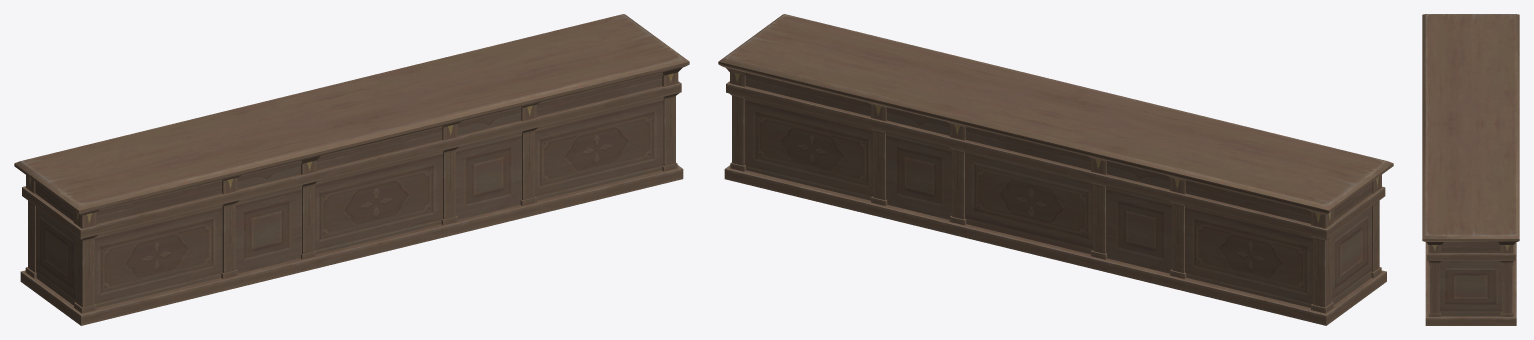
The model's file is Homeworld_Interior_Xm_Table_Build_Barbecue_01_Lod0.fbx.
3 views of the same model, side by side, from view 1: azimuth 30°, elevation 25°; view 2: azimuth 150°, elevation 25°; view 3: azimuth 270°, elevation 25° (orthographic). The views are drawn at different scales.
Visible parts, largest first — view 1: Indoor_Xm_Build_Barbecue_Decoration_06_Lod0; view 2: Indoor_Xm_Build_Barbecue_Decoration_06_Lod0; view 3: Indoor_Xm_Build_Barbecue_Decoration_06_Lod0.
Part boxes in pixels (x1,y1,x2,y2): Indoor_Xm_Build_Barbecue_Decoration_06_Lod0: (14, 14, 689, 325); Indoor_Xm_Build_Barbecue_Decoration_06_Lod0: (718, 14, 1393, 325); Indoor_Xm_Build_Barbecue_Decoration_06_Lod0: (1422, 14, 1519, 325).
Bounding box in the file's own units: 4.53 × 0.8567 × 0.8303.
